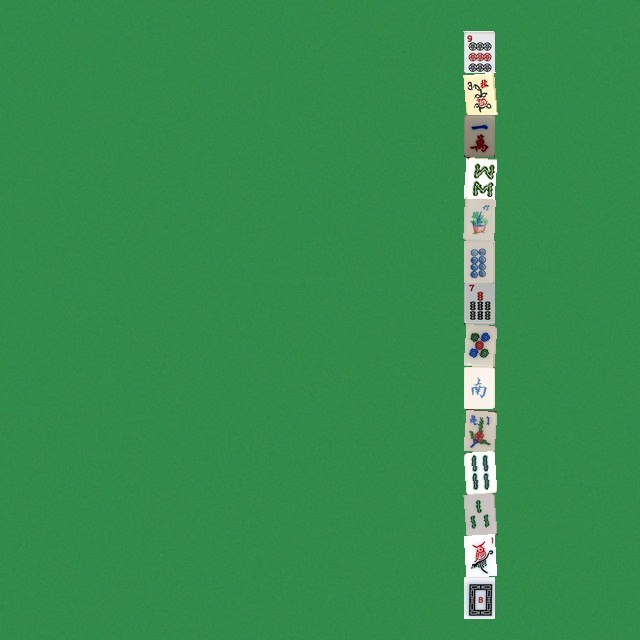tile: (463, 30, 494, 72), (463, 72, 494, 114), (463, 114, 494, 156), (463, 156, 494, 198), (463, 198, 494, 240), (463, 240, 494, 282), (463, 282, 494, 324), (463, 324, 494, 366), (463, 366, 494, 408), (463, 408, 494, 450), (463, 450, 494, 492), (463, 492, 494, 534), (463, 534, 494, 576), (463, 576, 494, 618)
